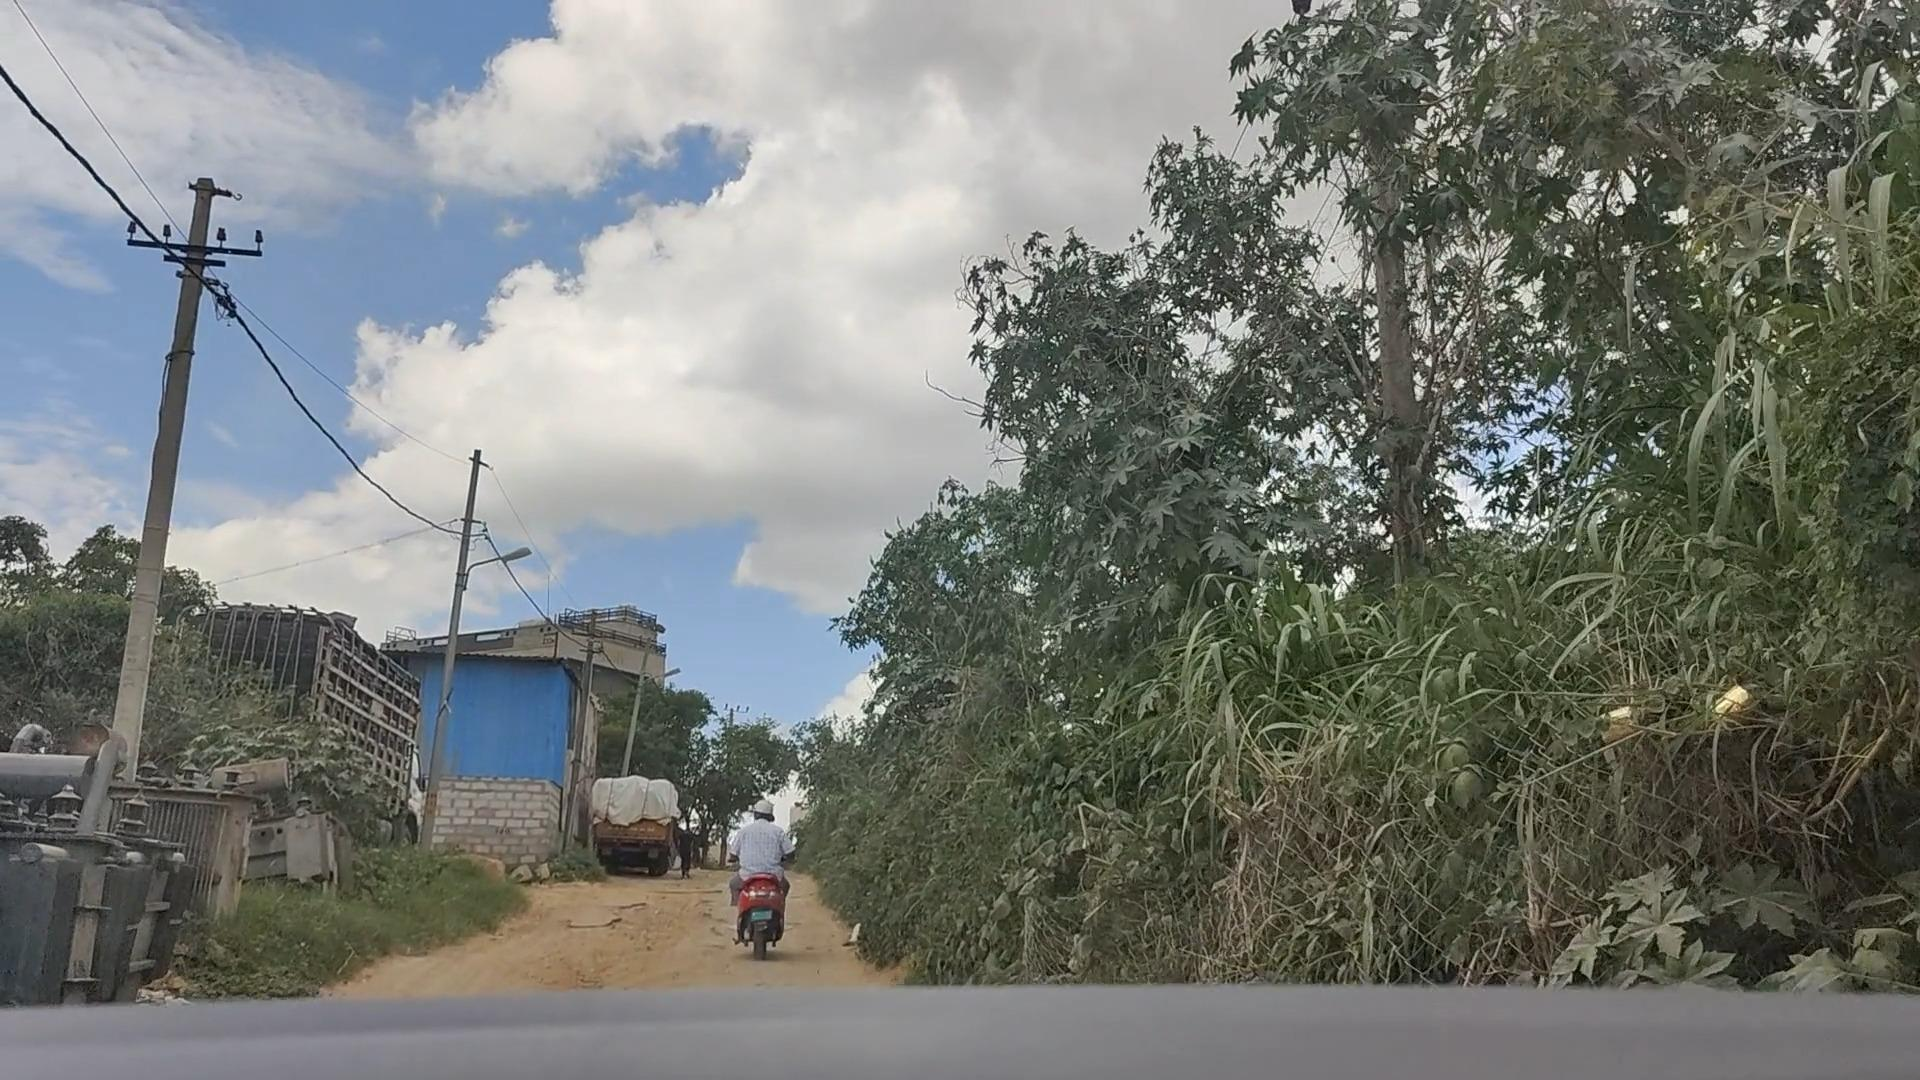HMV: (583, 767, 683, 886)
UnsurfacedRoad: (473, 886, 720, 984)
